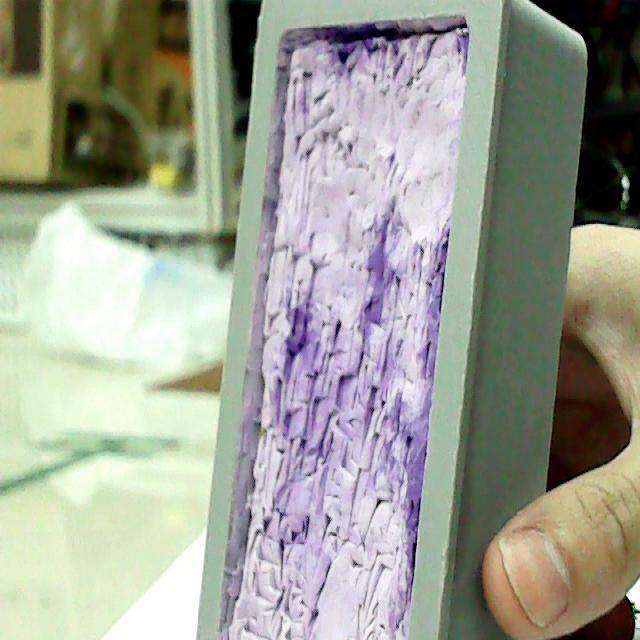block: (195, 0, 596, 640)
